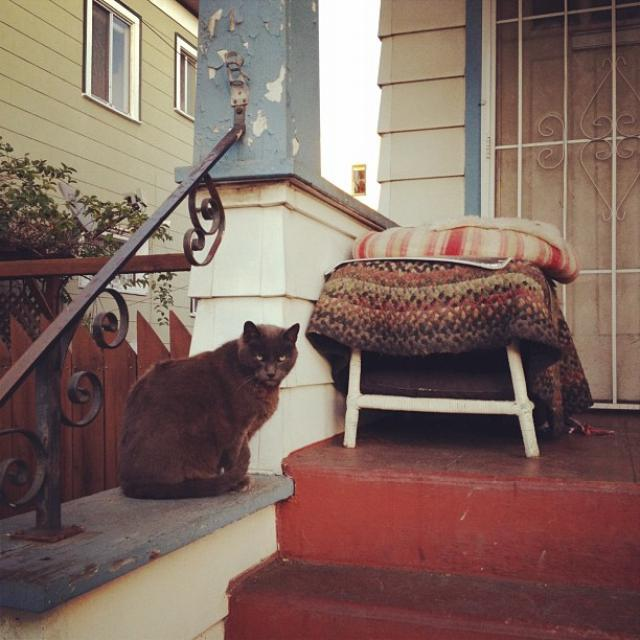cats: (114, 317, 300, 503)
